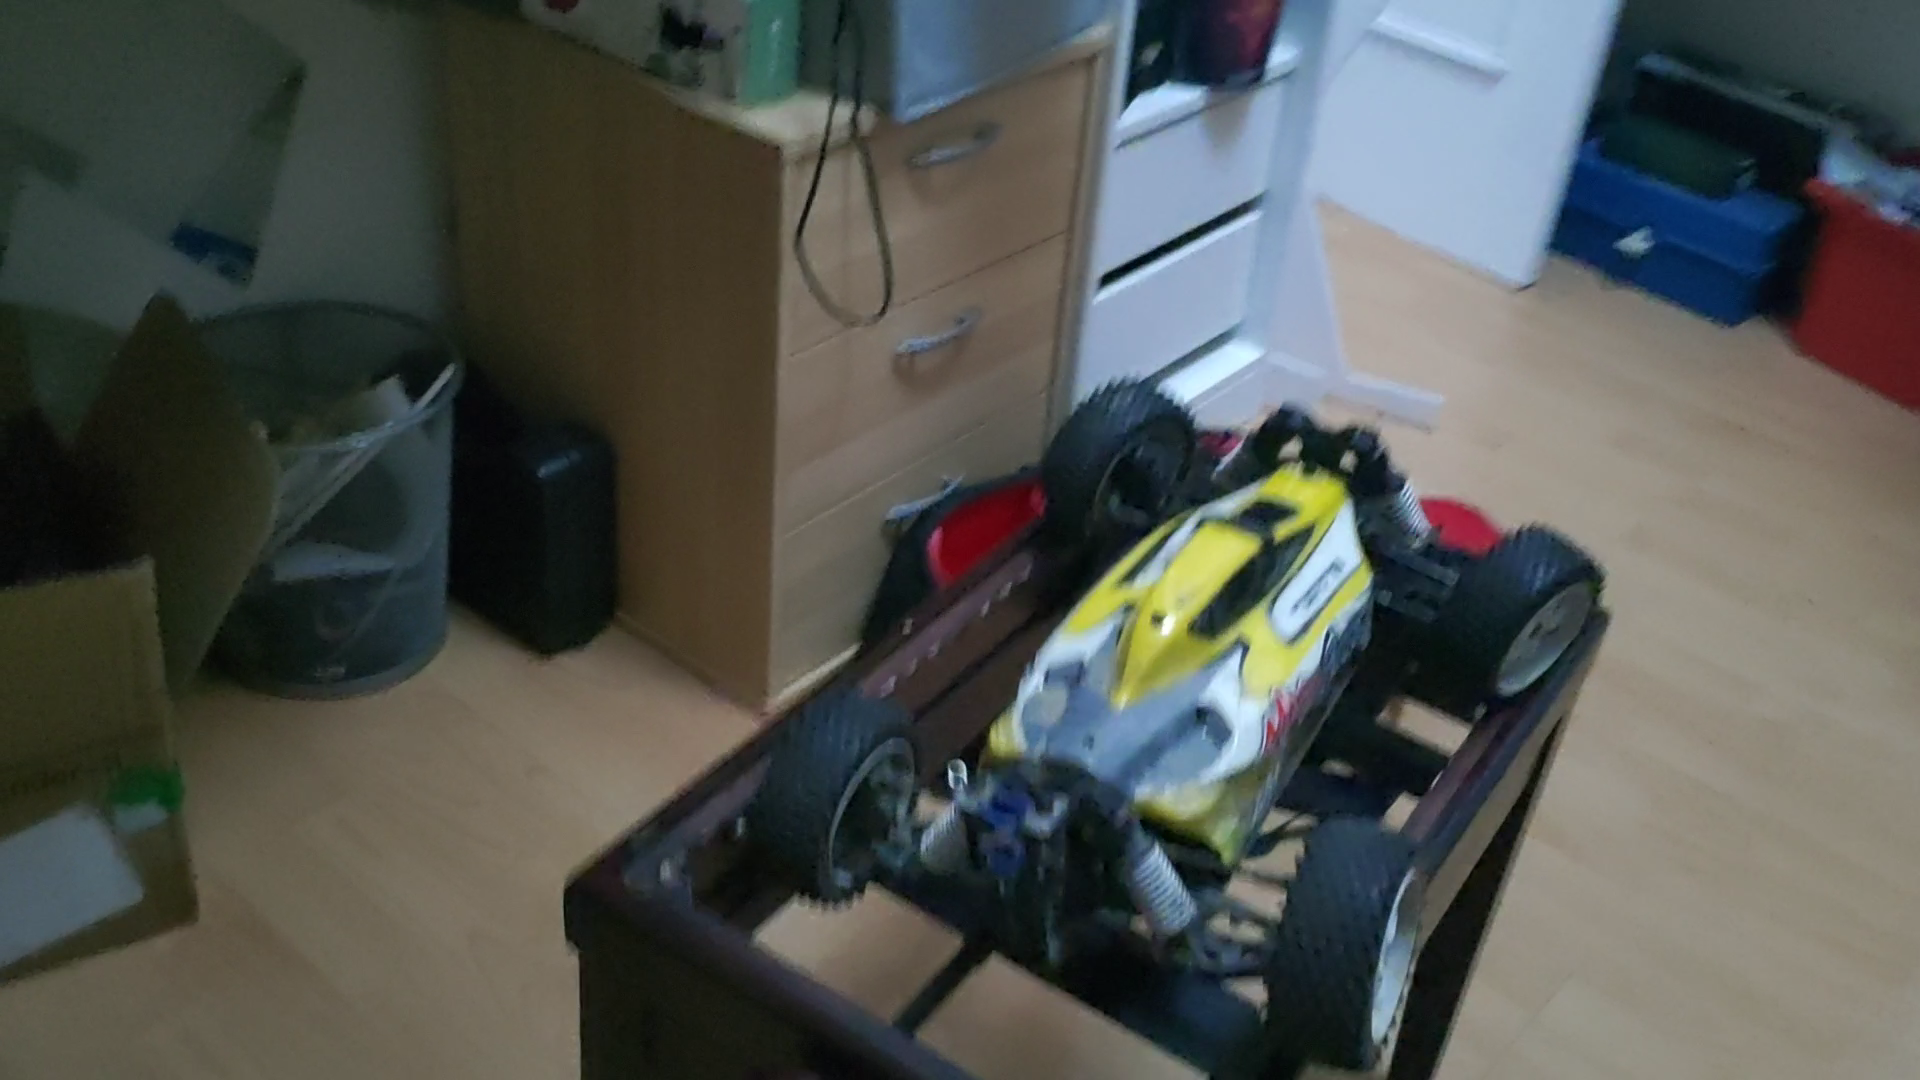buggy: (740, 384, 1606, 1080)
